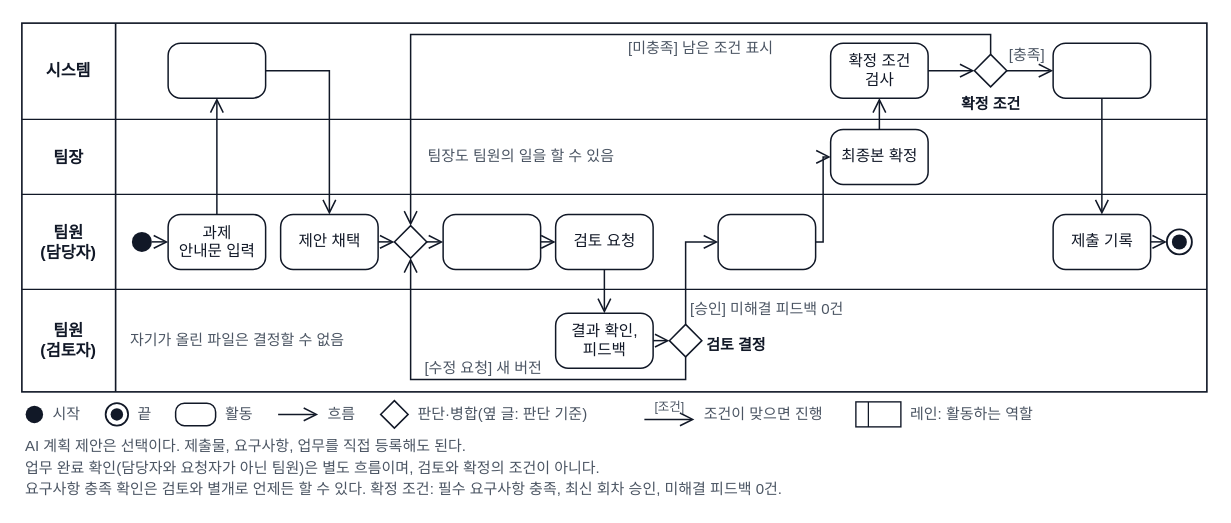
The diagram is 1231 pixels wide and 523 high, and some of its shapes have lost their labels. The shapes that lost their labels are listed below. From the top down, each one's centre as x and y in pixels, then its label:
At (216,70): "AI가 계획 제안".
At (1101,70): "수정 잠금".
At (491,241): "결과 파일 업로드".
At (766,241): "요구사항 충족 확인".
